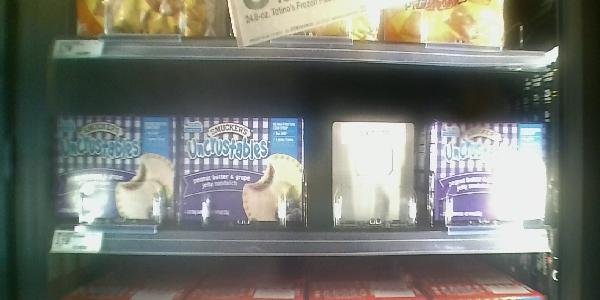icecream: (176, 111, 309, 232), (426, 116, 549, 234), (53, 111, 177, 226)
